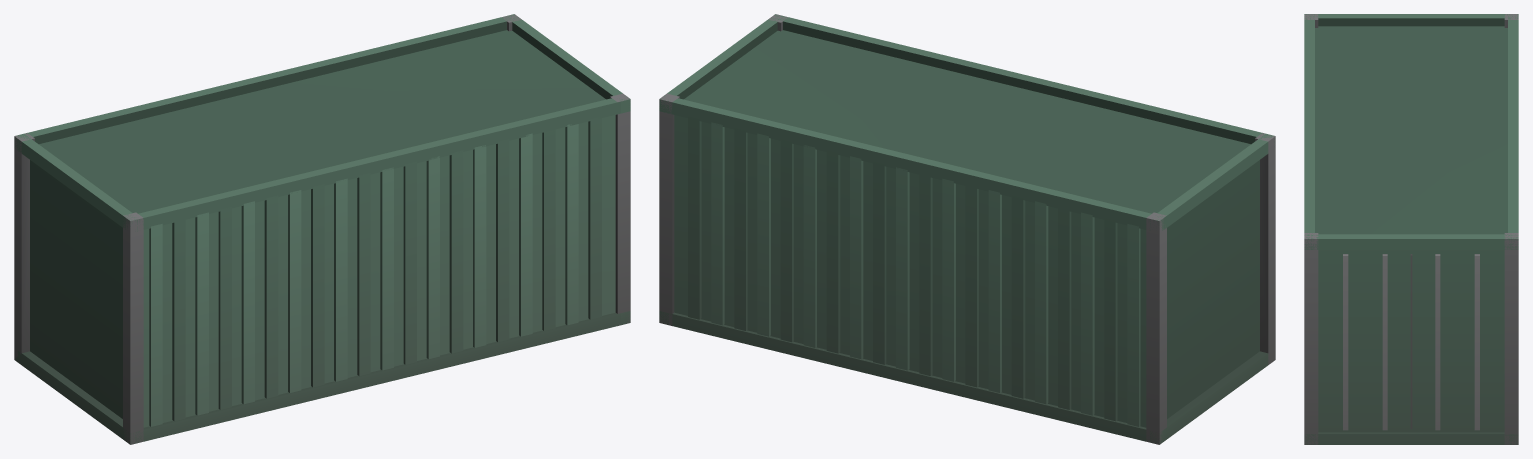
The model's file is box_green.glb.
3 views of the same model, side by side, from view 1: azimuth 30°, elevation 25°; view 2: azimuth 150°, elevation 25°; view 3: azimuth 270°, elevation 25° (orthographic). The views are drawn at different scales.
Parts seen in each view (by area): view 1: box_green; view 2: box_green; view 3: box_green.
Boxes of the visible parts, x1=… form: box_green: x1=14, y1=14, x2=630, y2=444; box_green: x1=659, y1=14, x2=1275, y2=444; box_green: x1=1304, y1=14, x2=1518, y2=444.
Size of the model in its own units: 6.09 by 2.59 by 2.44.
